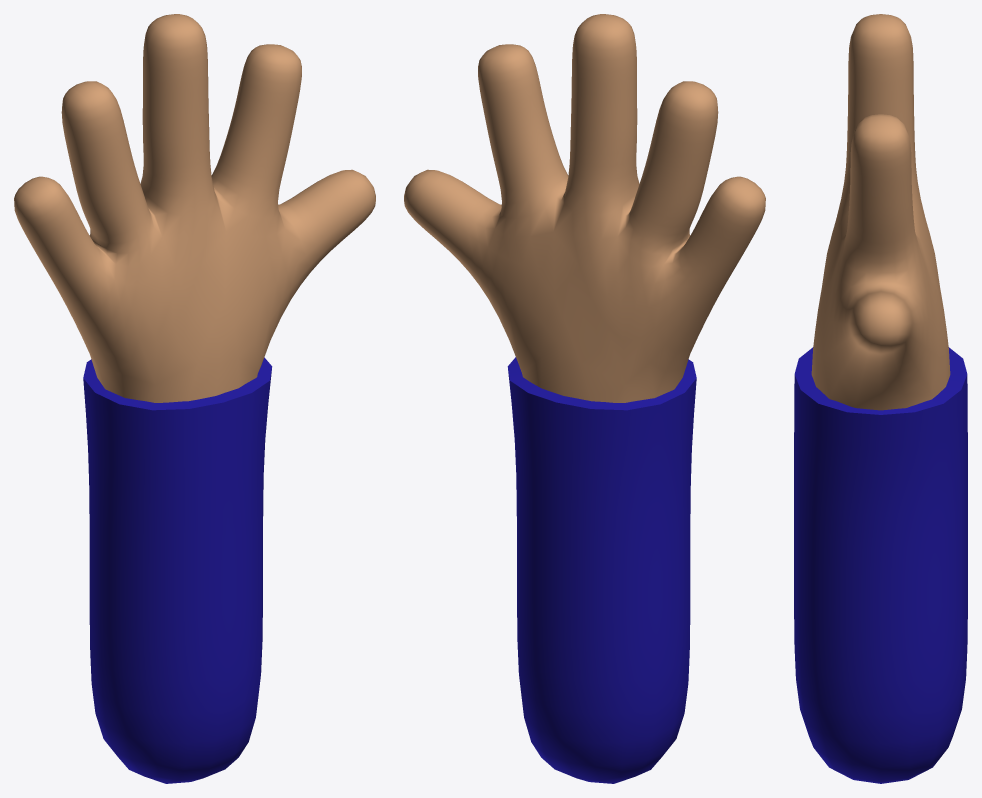
File: Mano.fbx
The picture shows the model from 3 angles, left to right: view 1: azimuth 30°, elevation 25°; view 2: azimuth 150°, elevation 25°; view 3: azimuth 270°, elevation 25°; orthographic projection.
Parts seen in each view (by area): view 1: Cube, Sleeve; view 2: Cube, Sleeve; view 3: Sleeve, Cube.
Boxes of the visible parts, x1,y1,x2,y2 form: Cube: (14, 14, 375, 402); Sleeve: (83, 357, 272, 783); Cube: (404, 14, 765, 402); Sleeve: (507, 357, 696, 783); Sleeve: (794, 347, 967, 783); Cube: (811, 14, 950, 410).
Bounding box in the file's own units: 251 × 513 × 107.
